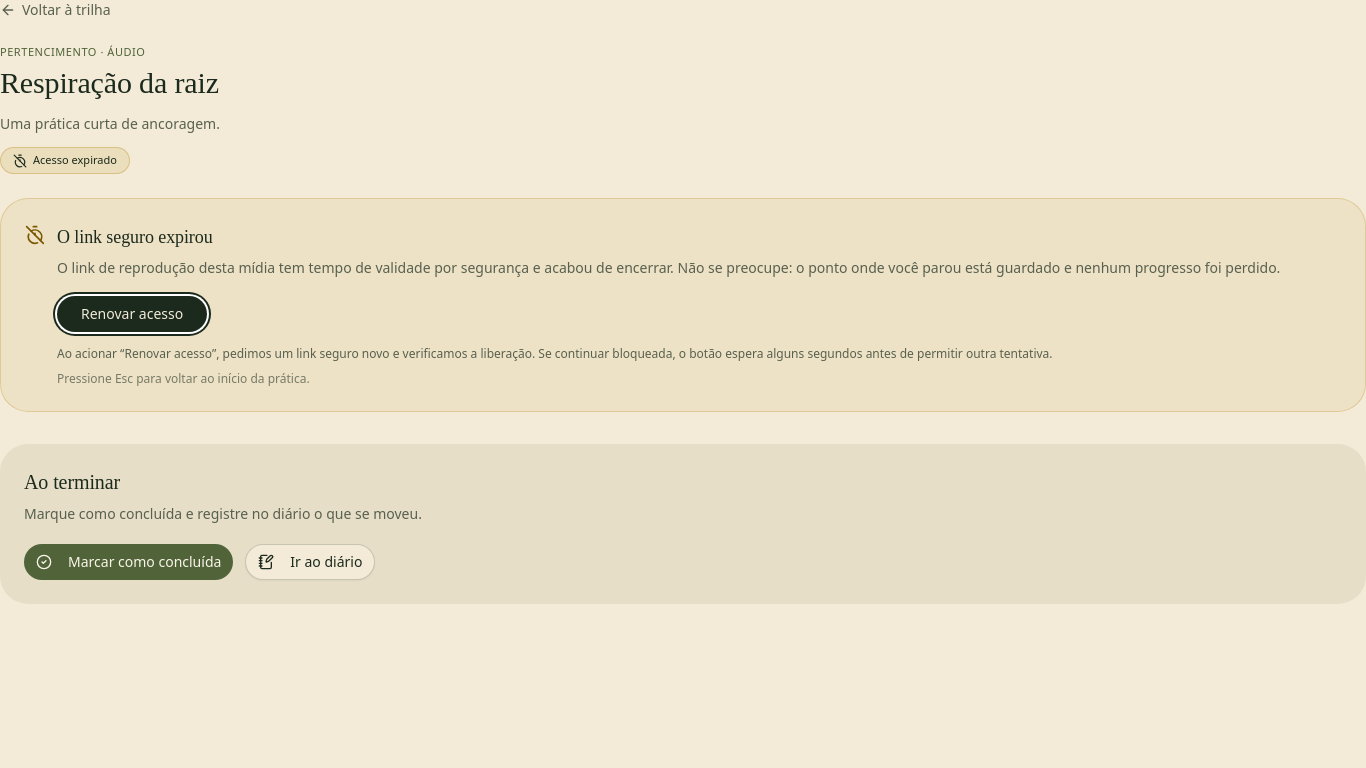
Test: player — expiração da URL assinada › renova o acesso, volta o player pausado e retoma a posição salva
The width and height of the screenshot is (1366, 768).
Later steps or results of the test are not shown.
Check: the heading "O link seguro expirou" is shown, box [57, 227, 213, 247]
Click the button "Renovar acesso" at (132, 314), box [57, 296, 207, 332]
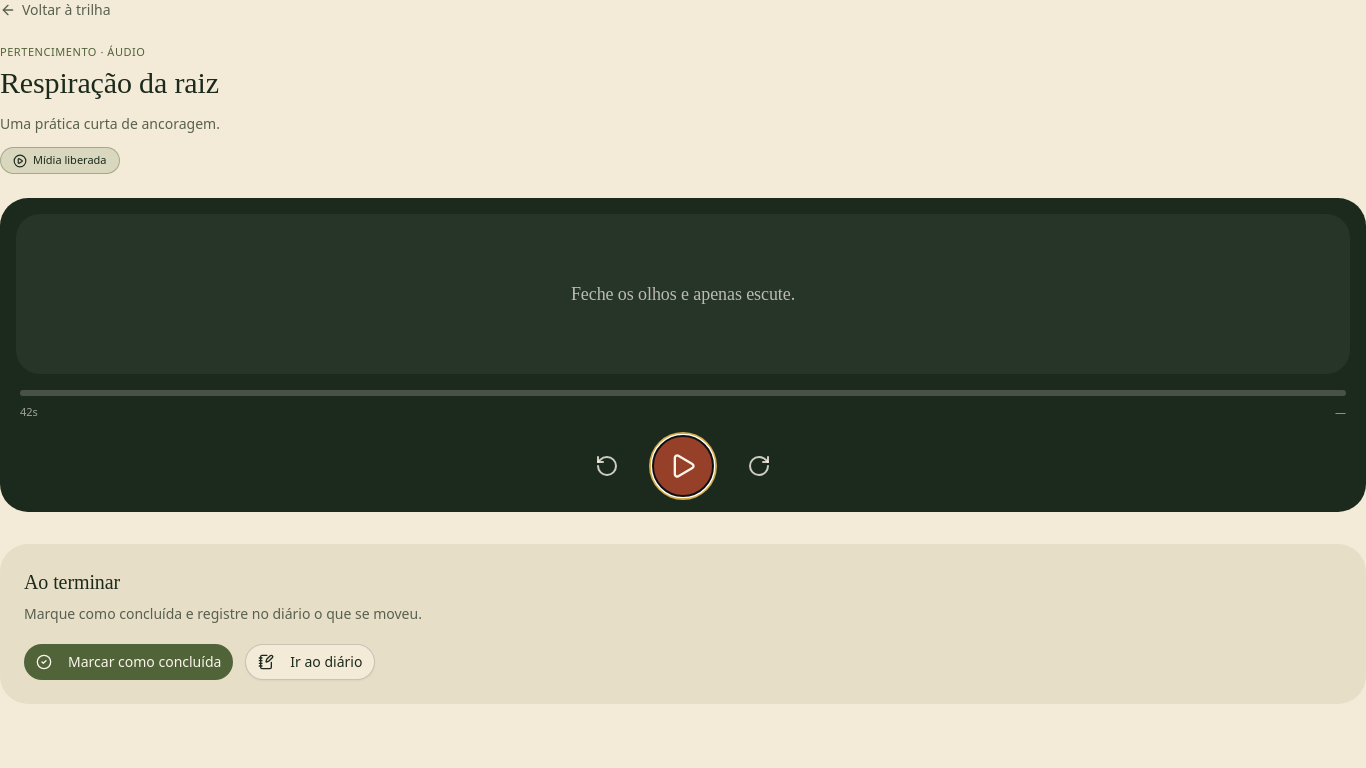
Check: the heading "O link seguro expirou" is gone
